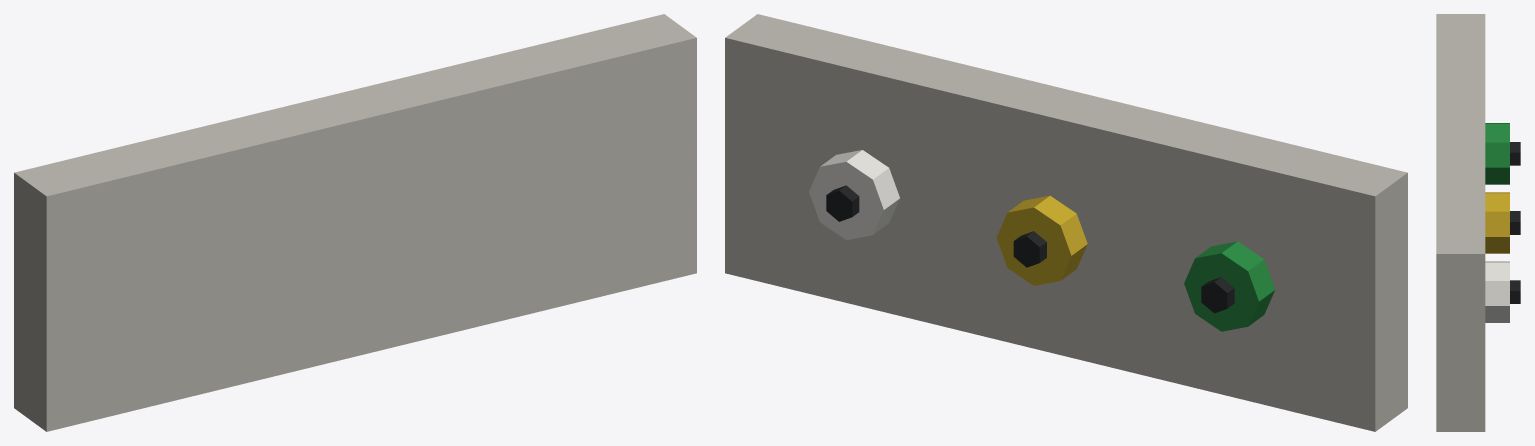
File: gas_panel.fbx
The picture shows the model from 3 angles, left to right: view 1: azimuth 30°, elevation 25°; view 2: azimuth 150°, elevation 25°; view 3: azimuth 270°, elevation 25°; orthographic projection. The views are drawn at different scales.
Visible parts, largest first — view 1: gas_panel; view 2: gas_panel; view 3: gas_panel.
Boxes of the visible parts, bbox=[...] form: gas_panel: bbox=[14, 14, 696, 431]; gas_panel: bbox=[725, 14, 1407, 431]; gas_panel: bbox=[1436, 14, 1520, 431].
Bounding box in the file's own units: 0.52 × 0.18 × 0.0775.
